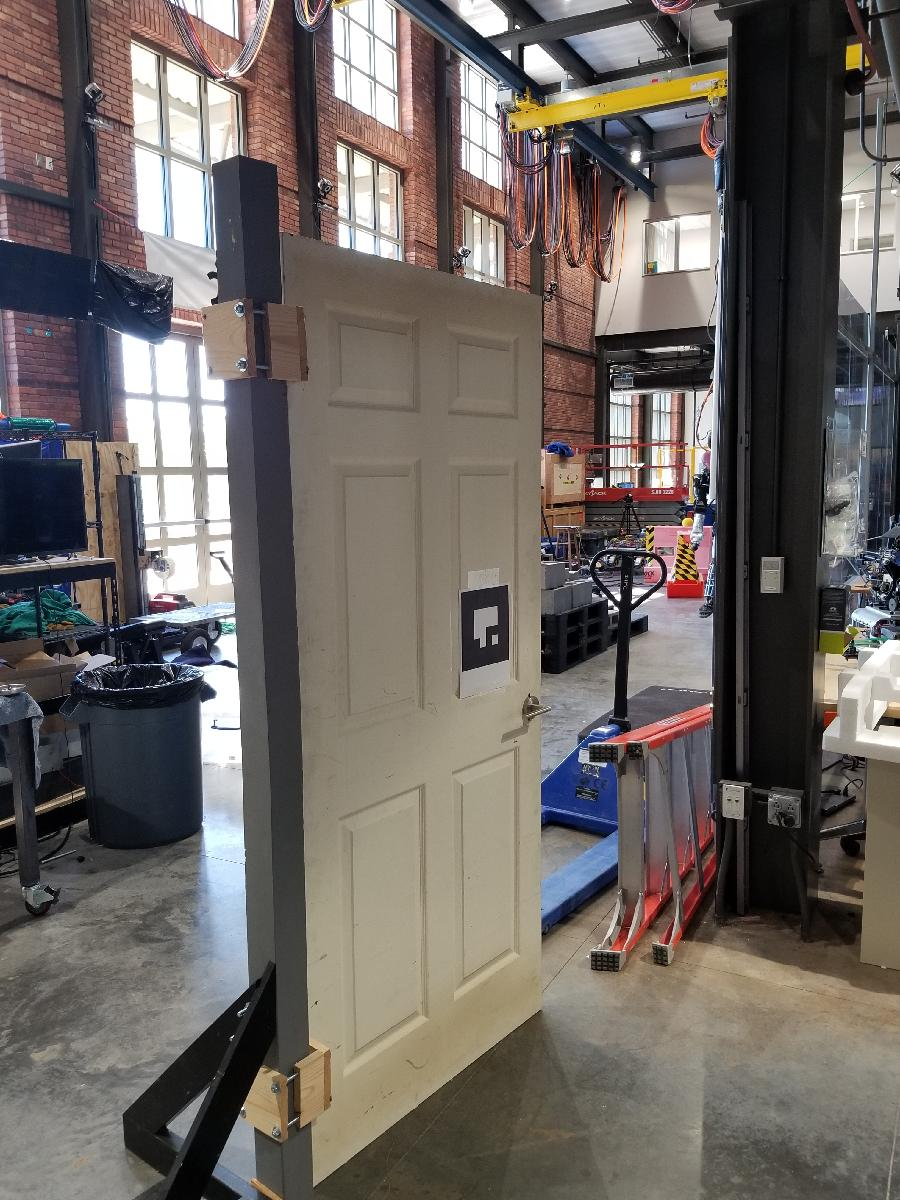door: (271, 228, 551, 1189)
doorHandle: (512, 693, 559, 727)
